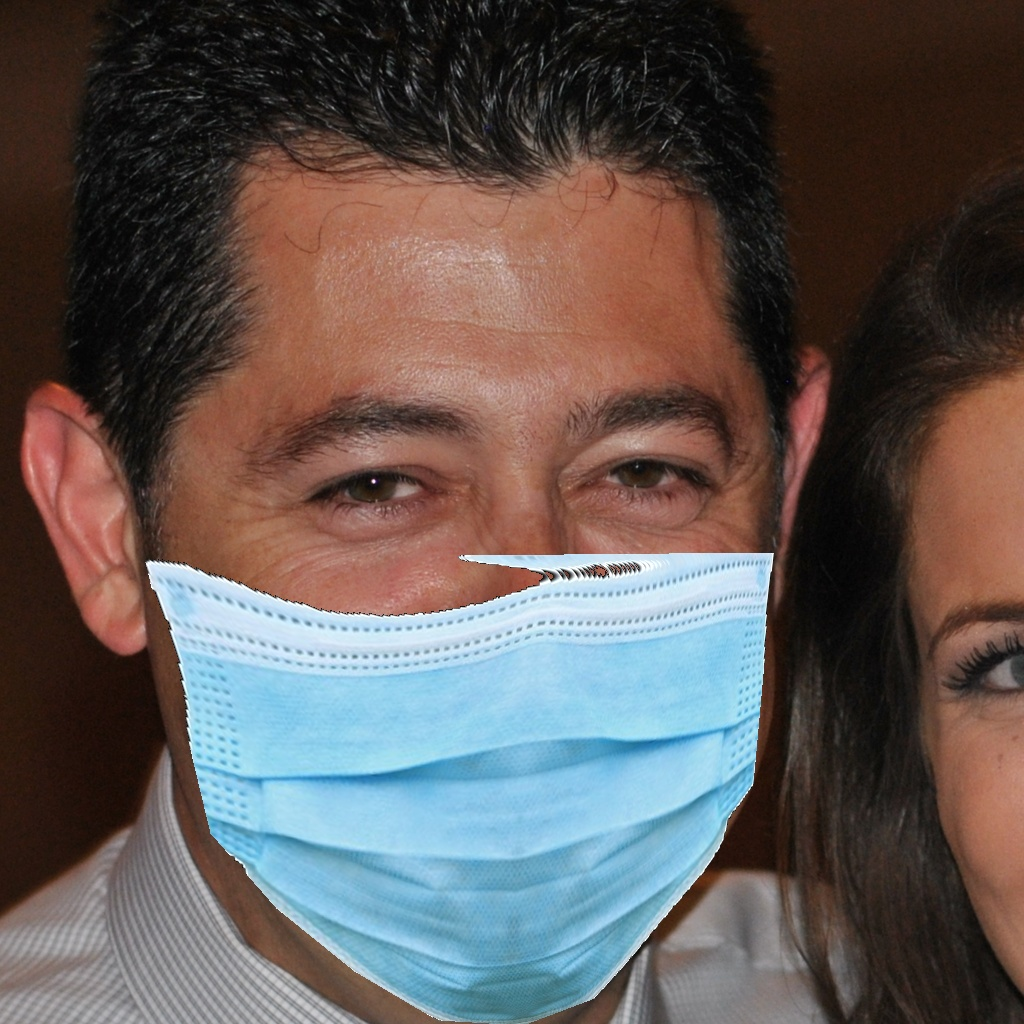Mask: (143, 353, 783, 1024)
